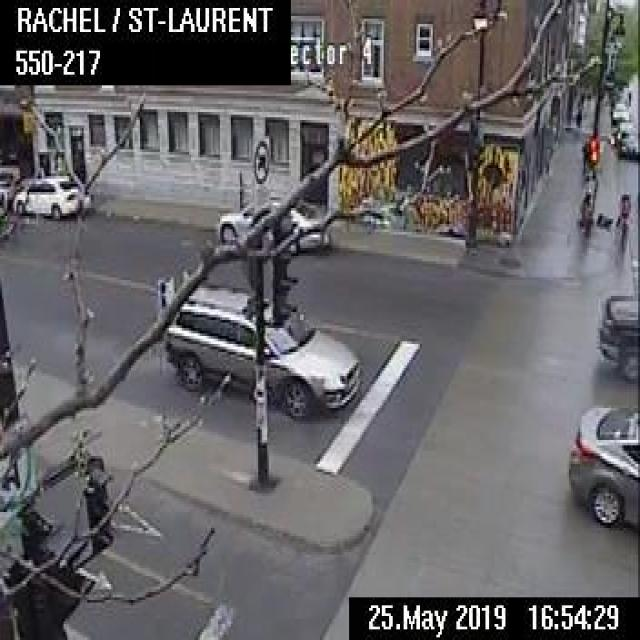cyclist: (615, 190, 630, 250)
vehicle: (160, 278, 359, 412), (564, 400, 638, 528), (214, 191, 331, 256), (591, 290, 638, 386), (12, 174, 92, 219), (613, 118, 638, 157), (609, 99, 628, 118)
